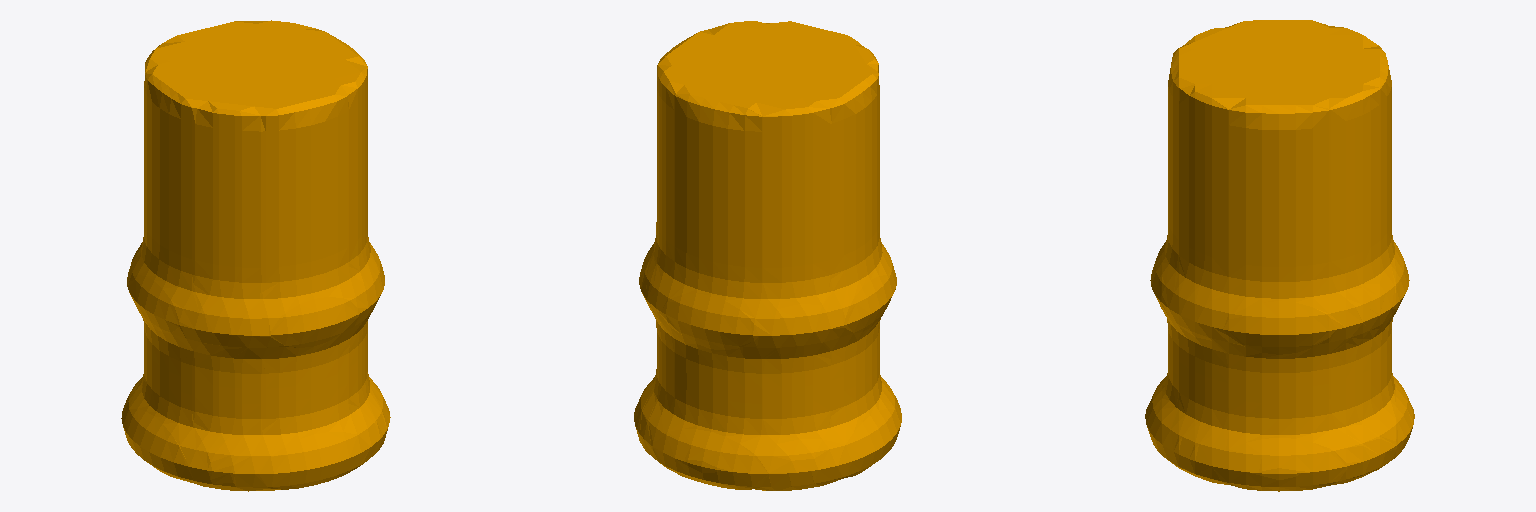
robot.urdf — cylinder_../../meshes/cylinders/cylinder_41.stl:
<?xml version="1.0" encoding="utf-8"?>  <robot name="cylinder_../../meshes/cylinders/cylinder_41.stl">   <link name="cylinder_../../meshes/cylinders/cylinder_41.stl">     <visual>       <geometry>         <mesh filename="../meshes/cylinders/cylinder_41.stl" scale="1 1 1"/>       </geometry>     </visual>     <collision>       <geometry>         <mesh filename="../meshes/cylinders/cylinder_41.stl" scale="1 1 1"/>       </geometry>     </collision>     <inertial>        <origin         xyz="0 0 0"         rpy="0 0 0" />       <mass value="0.4660363992605103"/>       <origin rpy="0 0 0" xyz="0 0 0"/>       <inertia ixx="0.000744306794402239" ixy="-3.403731865729882e-08" ixz="3.402836700020222e-08" iyy="0.0007443079750333814" iyz="3.518224229734243e-08" izz="0.00028581427291286734"/>     </inertial>   </link>  </robot>

--- What the picture shows (computed from the rendered views, not written in the file) ---
The picture shows the robot from 3 angles, left to right: view 1: azimuth 30°, elevation 25°; view 2: azimuth 150°, elevation 25°; view 3: azimuth 270°, elevation 25°; orthographic projection.
Model cylinder_../../meshes/cylinders/cylinder_41.stl with 1 links and 0 joints (none), rooted at cylinder_../../meshes/cylinders/cylinder_41.stl, posed every joint at zero.
Links seen in each view (by area): view 1: cylinder_../../meshes/cylinders/cylinder_41.stl; view 2: cylinder_../../meshes/cylinders/cylinder_41.stl; view 3: cylinder_../../meshes/cylinders/cylinder_41.stl.
Link boxes in pixels (x1,y1,x2,y2): cylinder_../../meshes/cylinders/cylinder_41.stl: [121, 20, 390, 491]; cylinder_../../meshes/cylinders/cylinder_41.stl: [634, 21, 901, 490]; cylinder_../../meshes/cylinders/cylinder_41.stl: [1145, 20, 1414, 491].
Size in the robot's own frame: 0.0805 by 0.0805 by 0.1252 metres.
Meshes: 1 distinct files referenced, 1 mesh visuals loaded (1 binary STL).